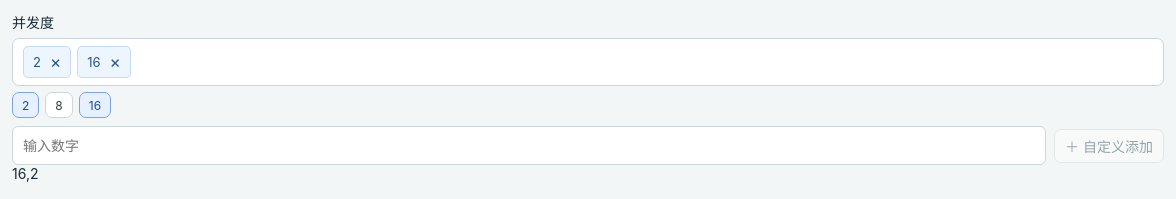
Test case: numbers sort numerically and deleting all tags leaves an empty selection
Click the button "8".
click(59, 105)  # box x1=45 y1=92 x2=73 y2=118
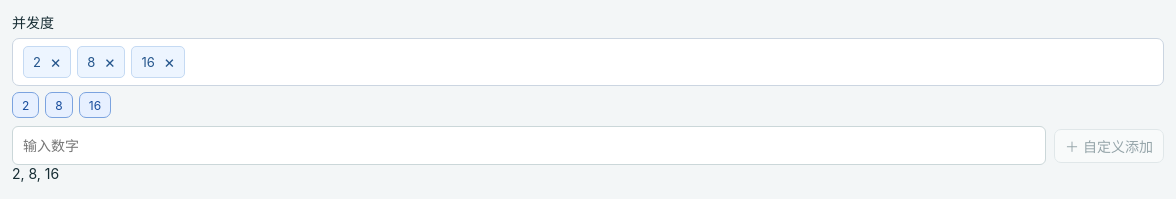
Click the 1st button "×".
click(56, 62)  # box x1=46 y1=50 x2=65 y2=74
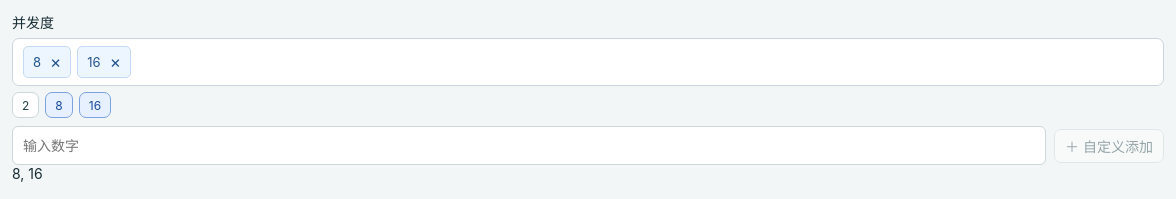
Click the 1st button "×".
click(56, 62)  # box x1=46 y1=50 x2=65 y2=74
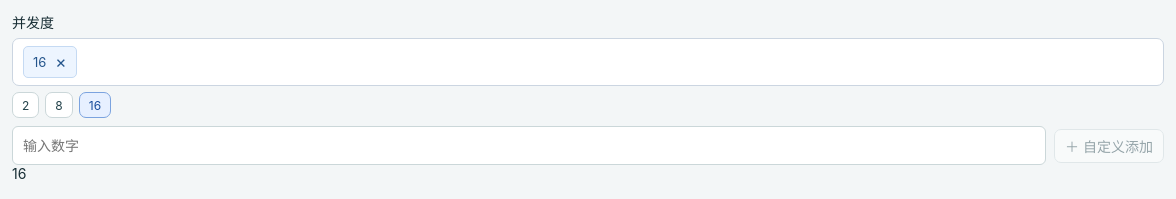
Click the button "×".
click(61, 62)  # box x1=51 y1=50 x2=71 y2=74
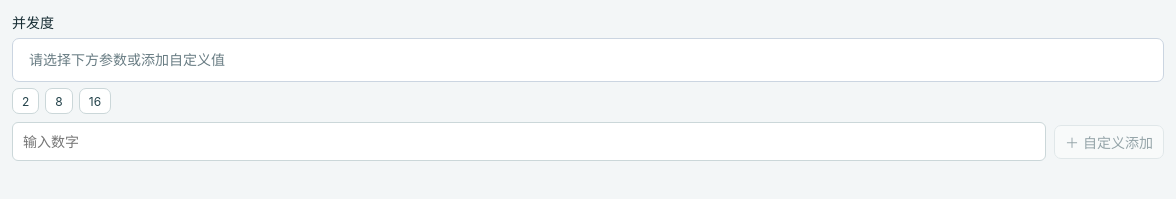
Result: the text "请选择下方参数或添加自定义值" is shown at x1=29 y1=48 x2=225 y2=72
